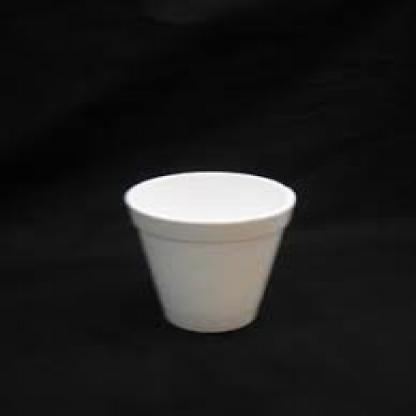paper: (120, 168, 296, 333)
